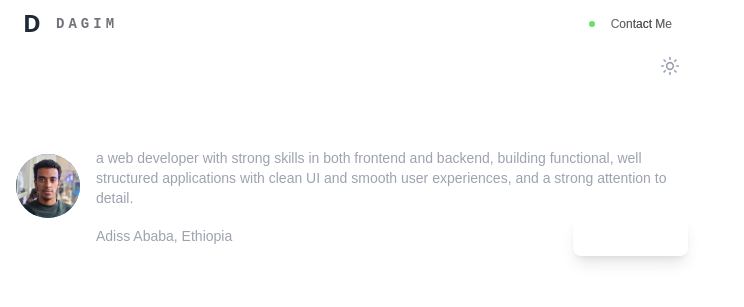
Scenario: Header Component Integration Tests › Contact Badge and Dropdown Toggle › should close dropdown when Escape key is pressed
Open dropdown
Click the button with aria-label "Open contact options" at coordinates (638, 24), box left=589, top=12, right=688, bottom=36
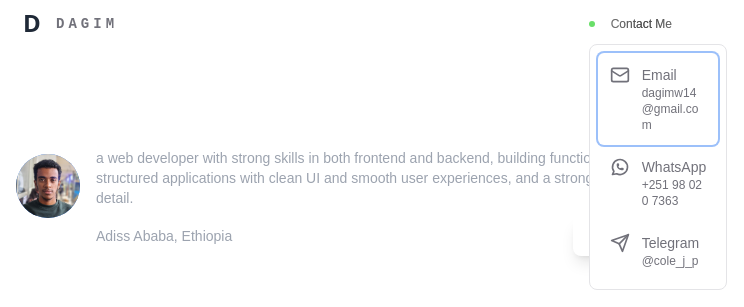
Result: the menu is shown at left=589, top=44, right=727, bottom=290
Press Escape
Press Escape
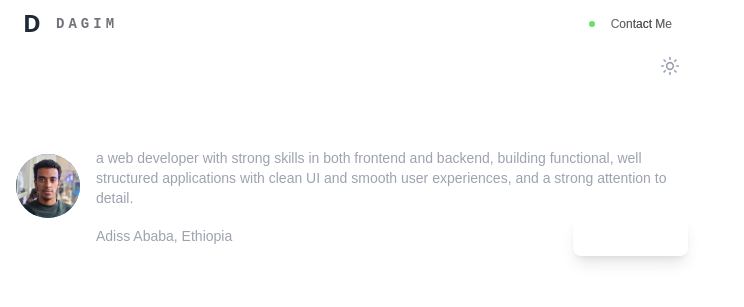
Result: the menu is gone
